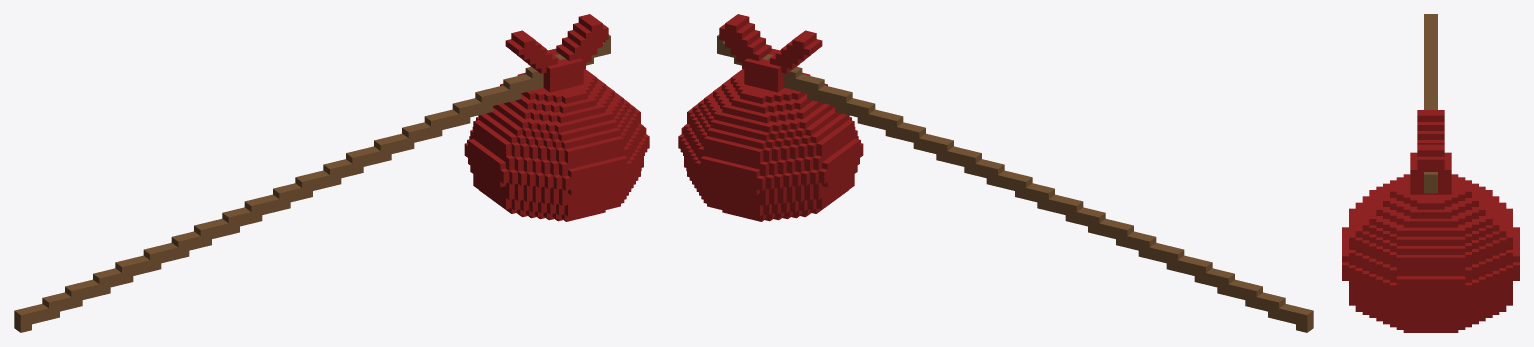
The model's file is bindle.glb.
3 renders of one model, left to right at view 1: azimuth 30°, elevation 25°; view 2: azimuth 150°, elevation 25°; view 3: azimuth 270°, elevation 25°, orthographic. The views are drawn at different scales.
Parts seen in each view (by area): view 1: bindle:compound; view 2: bindle:compound; view 3: bindle:compound.
Part boxes in pixels (box(x1,y1,x2,y2)): bindle:compound: box(14, 14, 649, 332); bindle:compound: box(678, 14, 1313, 332); bindle:compound: box(1342, 14, 1519, 332).
Size of the model in its own units: 1.09 by 0.29 by 0.26.
